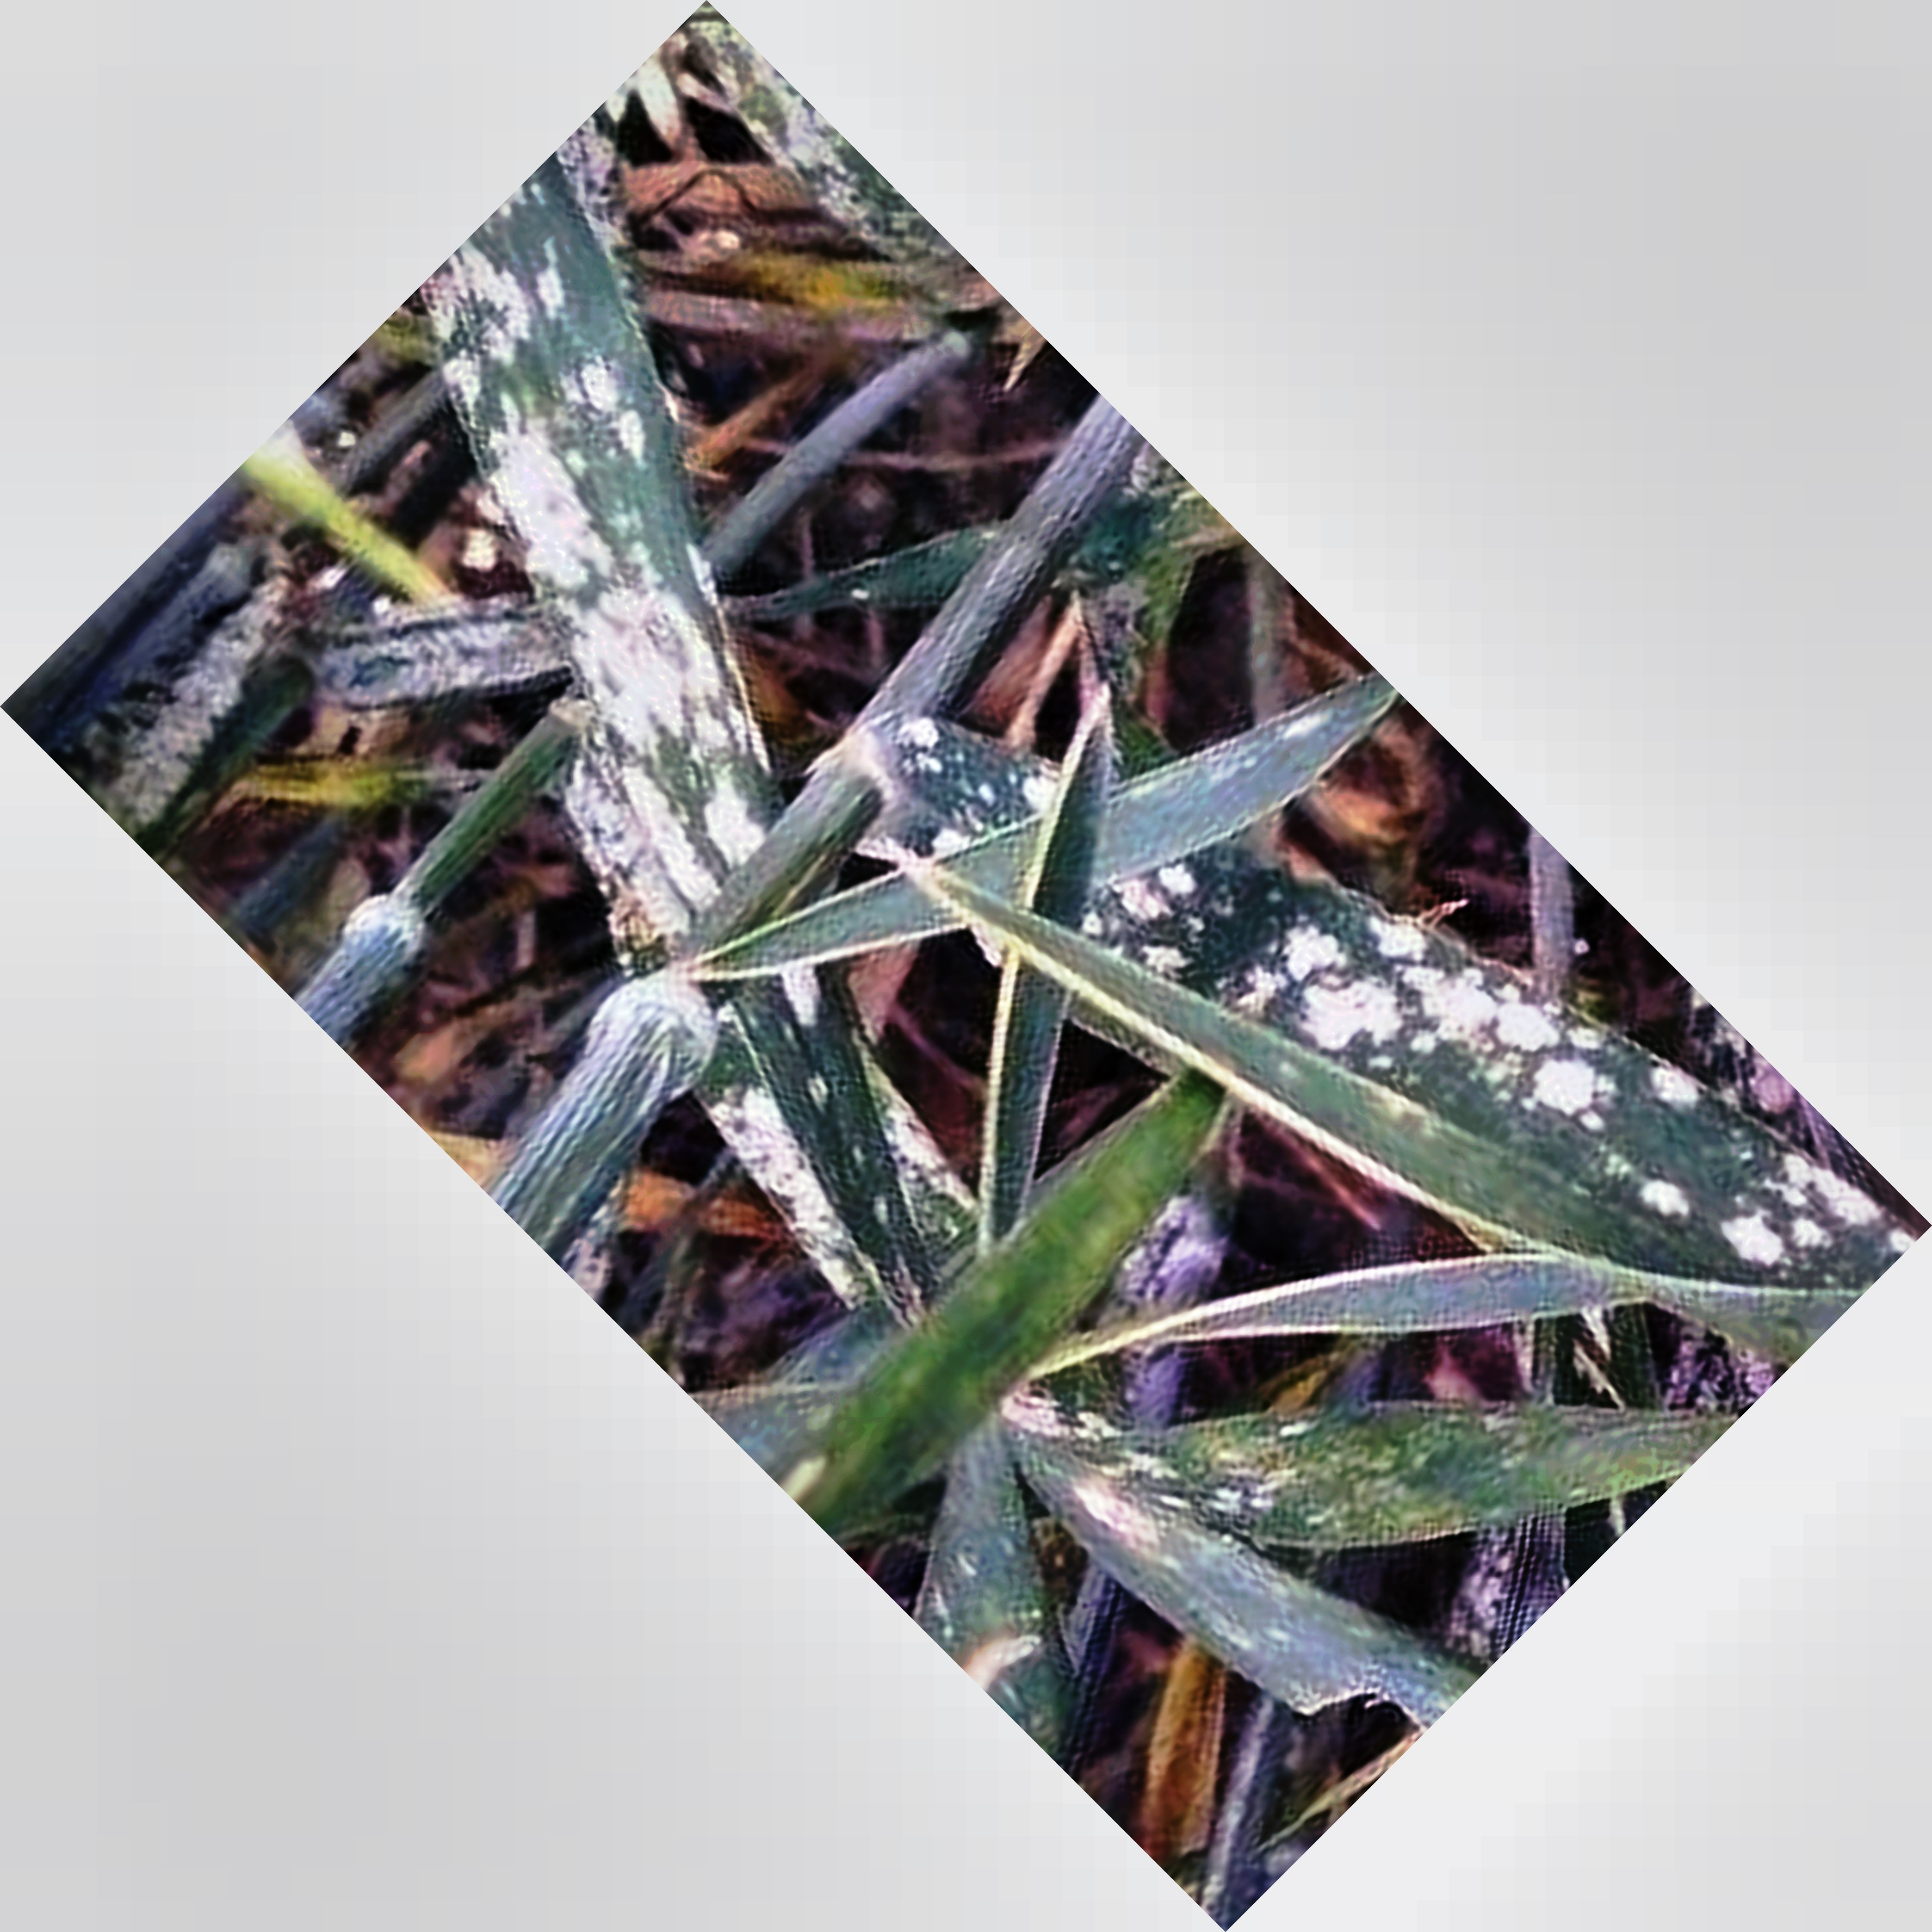Powdery Mildew: (1076, 842, 1884, 1256)
